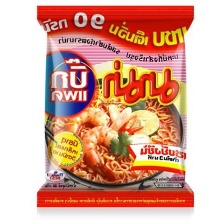snack: (28, 0, 203, 213)
